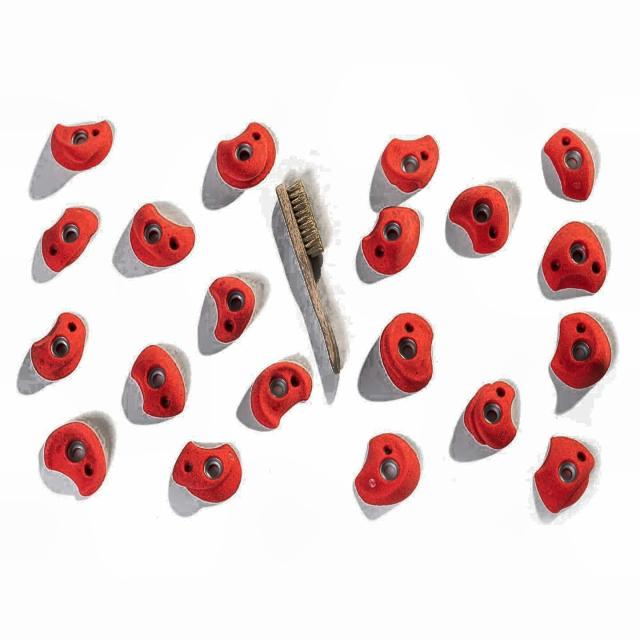Hold: (44, 418, 108, 500), (541, 220, 609, 294), (354, 433, 422, 505), (167, 435, 242, 500), (132, 192, 198, 265), (534, 433, 594, 513), (379, 311, 438, 392), (548, 311, 608, 388), (246, 359, 312, 429), (132, 341, 191, 419), (211, 120, 277, 187), (36, 206, 100, 274), (358, 202, 418, 274), (453, 181, 510, 255), (46, 116, 115, 171), (375, 132, 438, 190), (34, 312, 86, 377), (467, 382, 517, 449), (208, 277, 259, 341), (544, 125, 588, 198)
